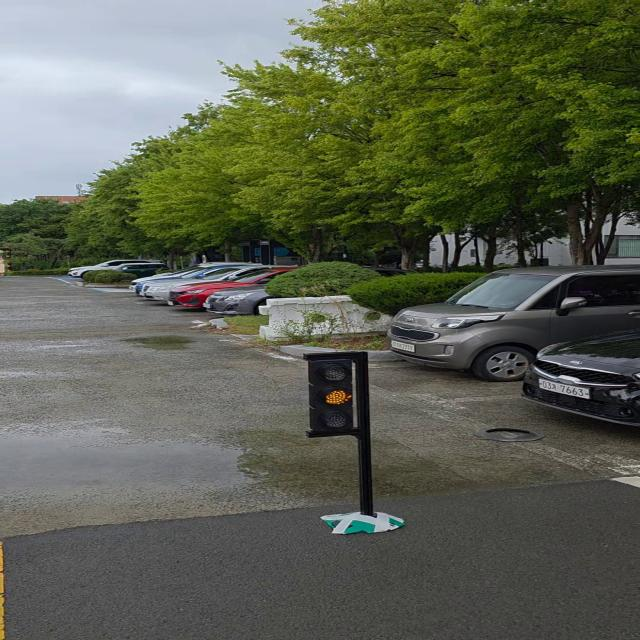yellow: (304, 354, 367, 437)
